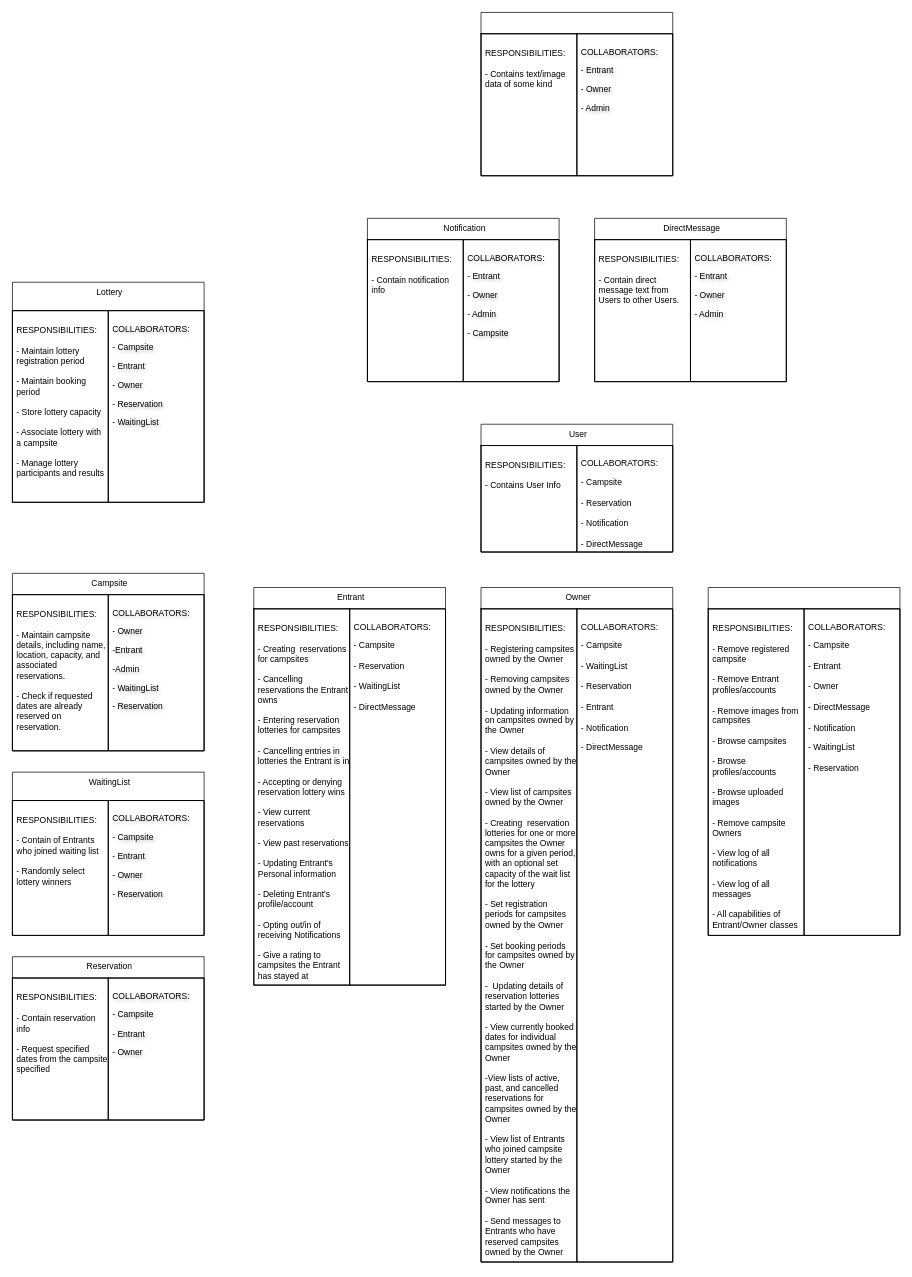
This 912x1277 diagram has some shape labels left out. The box of each missing label's shape, as (x1, y1, x2, y2) in pixels:
Admin: (708, 587, 900, 935)
Message: (480, 12, 673, 176)
